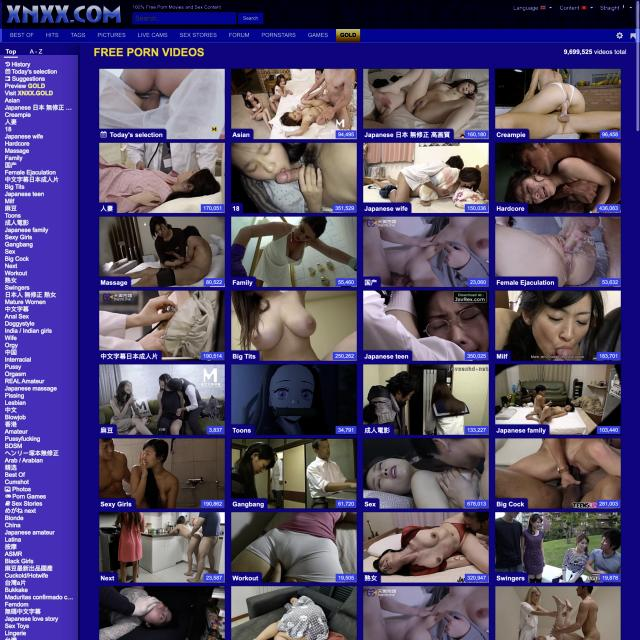bag: (2, 0, 635, 42)
decoration: (0, 55, 78, 640)
